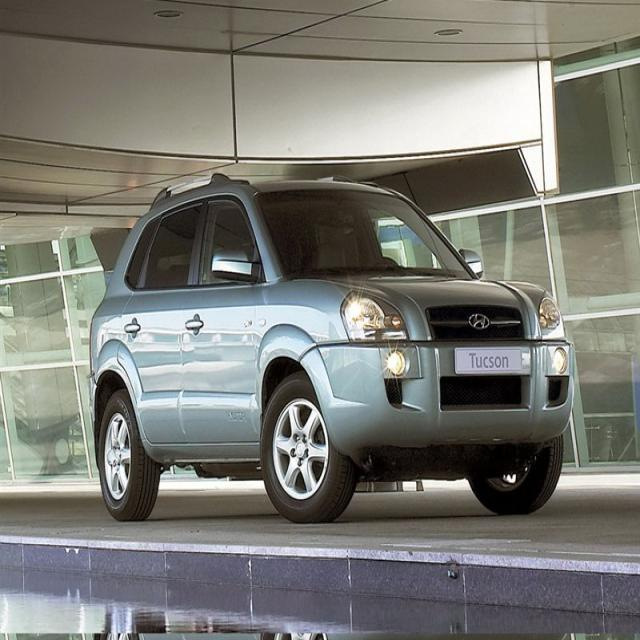door: (116, 198, 194, 451)
front_bumper: (298, 334, 575, 457)
front_glass: (253, 186, 474, 278)
front_left_side_light: (536, 288, 562, 332)
front_left_side_mirror: (458, 247, 488, 279)
front_right_side_door: (178, 184, 268, 449)
front_right_side_light: (340, 286, 410, 346)
front_right_side_mirror: (210, 239, 259, 286)
wheel: (259, 373, 357, 522), (467, 432, 568, 516), (96, 389, 158, 522)
